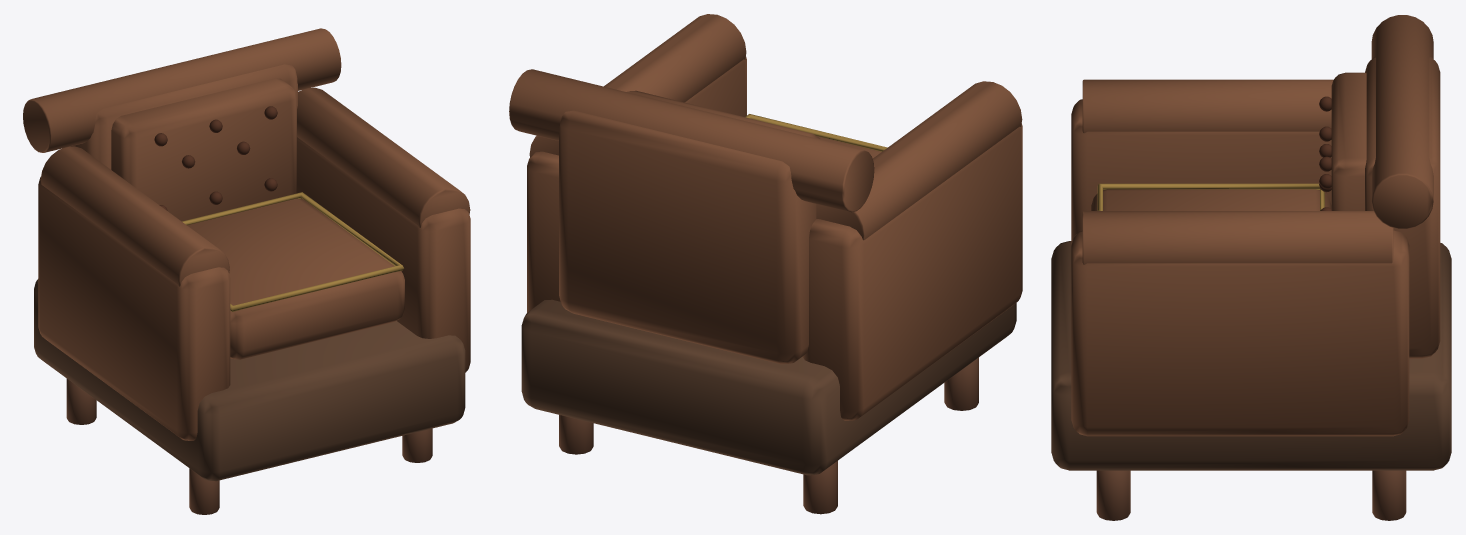
Rendered from asset_068_lounge_armchair_sheet07.glb.
3 renders of one model, left to right at view 1: azimuth 30°, elevation 25°; view 2: azimuth 150°, elevation 25°; view 3: azimuth 270°, elevation 25°, orthographic. The views are drawn at different scales.
Parts seen in each view (by area): view 1: MESH_ArmchairArmBlockSet, MESH_ArmchairBase, MESH_ArmchairSeat, MESH_ArmchairArmRollSet, MESH_ArmchairBackCushion, MESH_ArmchairBackRoll, MESH_ArmchairBack, MESH_ArmchairFootSet, MESH_SeatPipingSet, MESH_ArmchairTuftButtonSet; view 2: MESH_ArmchairBack, MESH_ArmchairArmBlockSet, MESH_ArmchairBase, MESH_ArmchairArmRollSet, MESH_ArmchairBackRoll, MESH_ArmchairFootSet, MESH_ArmchairBackCushion, MESH_SeatPipingSet; view 3: MESH_ArmchairArmBlockSet, MESH_ArmchairArmRollSet, MESH_ArmchairBase, MESH_ArmchairBackRoll, MESH_ArmchairBack, MESH_ArmchairSeat, MESH_ArmchairBackCushion, MESH_ArmchairFootSet, MESH_SeatPipingSet, MESH_ArmchairTuftButtonSet.
Boxes of the visible parts, x1,y1,x2,y2 form: MESH_ArmchairArmBlockSet: [38, 137, 470, 440]; MESH_ArmchairBase: [34, 279, 465, 481]; MESH_ArmchairSeat: [187, 198, 404, 359]; MESH_ArmchairArmRollSet: [40, 87, 470, 286]; MESH_ArmchairBackCushion: [111, 78, 296, 221]; MESH_ArmchairBackRoll: [23, 28, 341, 152]; MESH_ArmchairBack: [71, 64, 297, 169]; MESH_ArmchairFootSet: [66, 378, 432, 514]; MESH_SeatPipingSet: [182, 192, 403, 311]; MESH_ArmchairTuftButtonSet: [154, 106, 277, 210]; MESH_ArmchairBack: [559, 110, 816, 364]; MESH_ArmchairArmBlockSet: [527, 56, 1022, 420]; MESH_ArmchairBase: [521, 299, 1016, 475]; MESH_ArmchairArmRollSet: [529, 14, 1022, 240]; MESH_ArmchairBackRoll: [509, 69, 874, 212]; MESH_ArmchairFootSet: [559, 357, 978, 514]; MESH_ArmchairBackCushion: [627, 90, 819, 139]; MESH_SeatPipingSet: [745, 114, 887, 151]; MESH_ArmchairArmBlockSet: [1071, 99, 1409, 436]; MESH_ArmchairArmRollSet: [1082, 79, 1393, 264]; MESH_ArmchairBase: [1051, 241, 1451, 470]; MESH_ArmchairBackRoll: [1371, 15, 1433, 228]; MESH_ArmchairBack: [1365, 57, 1440, 358]; MESH_ArmchairSeat: [1091, 189, 1331, 210]; MESH_ArmchairBackCushion: [1331, 72, 1366, 210]; MESH_ArmchairFootSet: [1096, 470, 1406, 520]; MESH_SeatPipingSet: [1097, 183, 1324, 210]; MESH_ArmchairTuftButtonSet: [1319, 96, 1331, 210].
Size of the model in its own units: 0.85 by 0.9 by 0.9.
